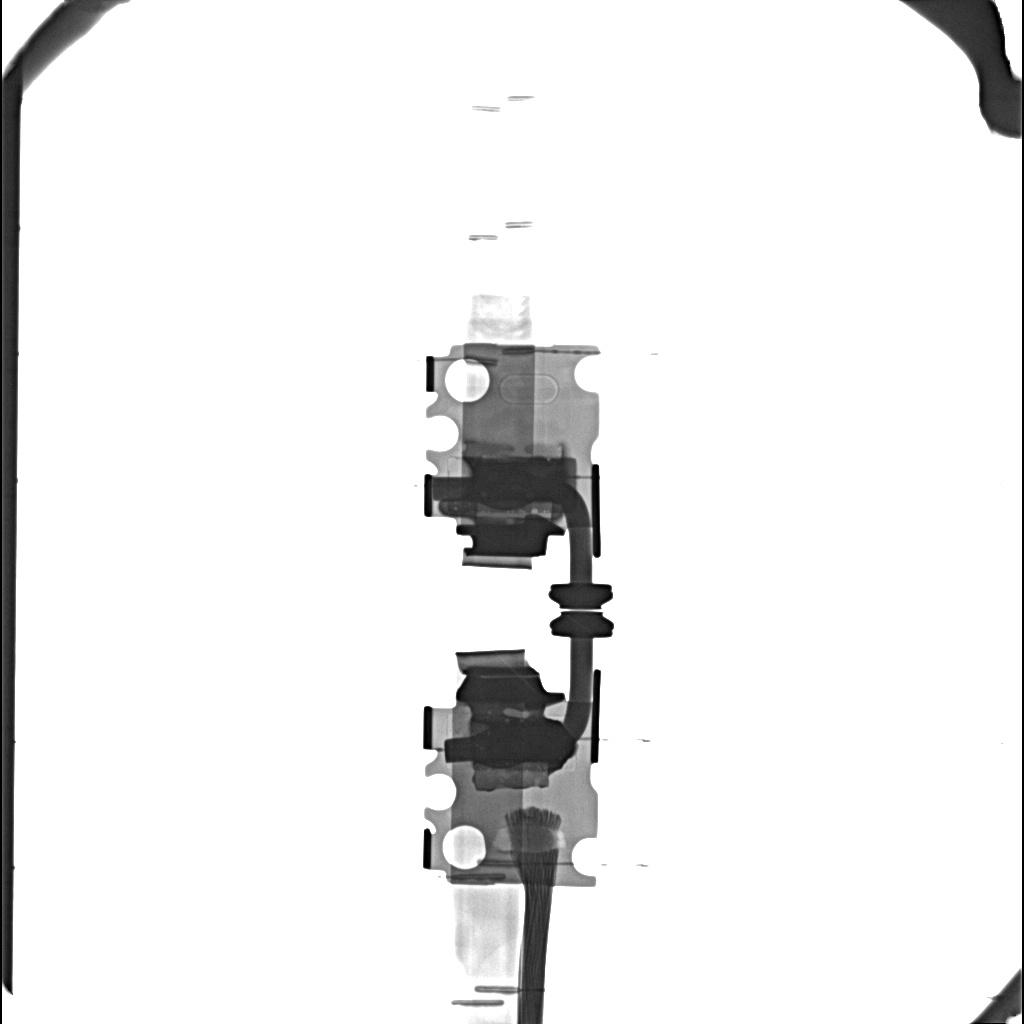PX: (473, 765, 550, 792)
QP: (504, 709, 530, 717)
SX: (473, 719, 572, 763), (474, 459, 565, 500)
